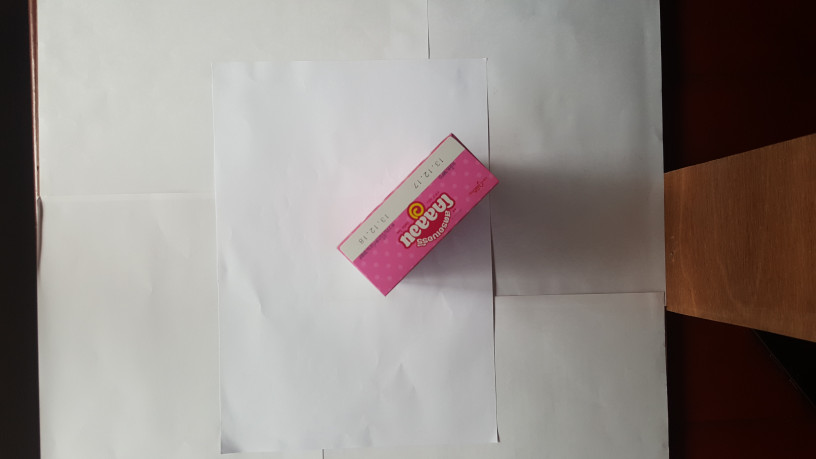collon-strawberry: (332, 132, 501, 296)
